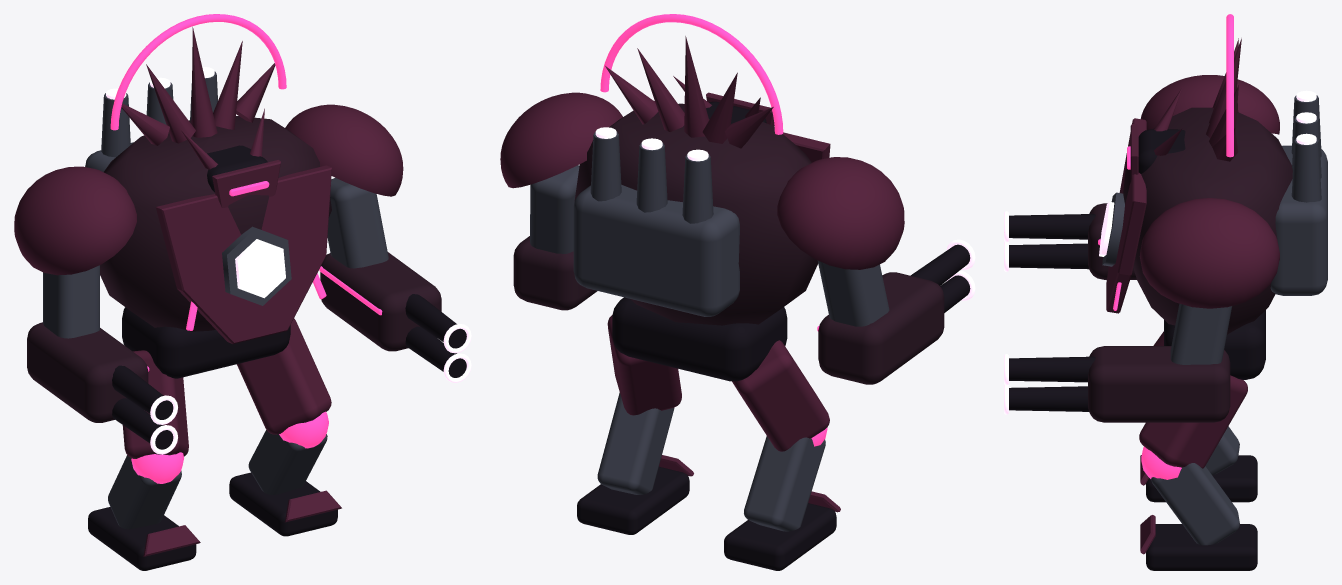
File: guardian.glb
3 views of the same model, side by side, from view 1: azimuth 30°, elevation 25°; view 2: azimuth 150°, elevation 25°; view 3: azimuth 270°, elevation 25° (orthographic). The views are drawn at different scales.
Visible parts, largest first — view 1: torso:hull, torso:plate, armR:plate, armR:hull, legL:plate, armL:plate, armL:hull, crown:plate, torso:dark, torso:alloy, armL:alloy, armR:alloy (+15 smaller); view 2: torso:alloy, torso:hull, armR:plate, torso:dark, armR:hull, armL:plate, legR:plate, crown:plate, legR:alloy, legL:alloy, legL:dark, legR:dark (+9 smaller); view 3: torso:hull, armL:plate, armL:hull, torso:alloy, legL:alloy, legL:dark, legL:plate, armL:dark, armR:dark, armR:plate, armL:alloy, torso:plate (+10 smaller).
Part boxes in pixels (<box>): torso:hull: <box>100,116,331,331</box>; torso:plate: <box>156,165,331,344</box>; armR:plate: <box>14,166,136,275</box>; armR:hull: <box>27,322,148,422</box>; legL:plate: <box>237,318,341,522</box>; armL:plate: <box>285,104,403,196</box>; armL:hull: <box>320,252,441,351</box>; crown:plate: <box>121,27,275,145</box>; torso:dark: <box>122,307,290,378</box>; torso:alloy: <box>85,71,291,305</box>; armL:alloy: <box>327,178,388,268</box>; armR:alloy: <box>43,265,99,338</box>; torso:alloy: <box>573,132,739,316</box>; torso:hull: <box>574,103,818,325</box>; armR:plate: <box>777,157,904,269</box>; torso:dark: <box>612,297,787,381</box>; armR:hull: <box>818,272,944,384</box>; armL:plate: <box>500,92,622,188</box>; legR:plate: <box>732,340,840,512</box>; crown:plate: <box>605,36,773,148</box>; legR:alloy: <box>744,436,825,531</box>; legL:alloy: <box>597,392,674,494</box>; legL:dark: <box>577,466,689,534</box>; legR:dark: <box>724,503,836,570</box>; torso:hull: <box>1123,107,1292,334</box>; armL:plate: <box>1139,198,1279,308</box>; armL:hull: <box>1088,346,1230,422</box>; torso:alloy: <box>1102,95,1327,295</box>; legL:alloy: <box>1151,463,1239,545</box>; legL:dark: <box>1146,524,1257,570</box>; legL:plate: <box>1139,375,1247,554</box>; armL:dark: <box>1009,356,1095,411</box>; armR:dark: <box>1009,214,1095,269</box>; armR:plate: <box>1140,75,1279,134</box>; armL:alloy: <box>1170,303,1232,364</box>; torso:plate: <box>1106,118,1146,313</box>.
Size of the model in its own units: 4.16 by 5.44 by 3.18.
